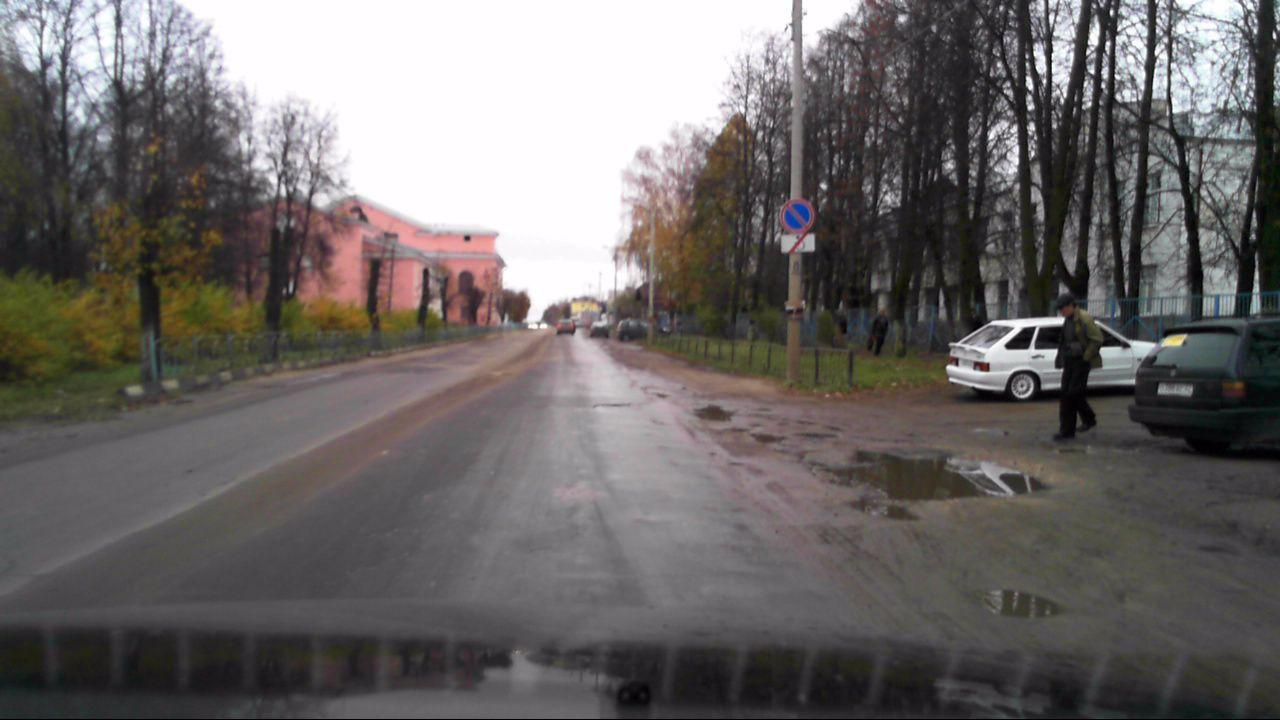6_4: (780, 197, 817, 231)
8_18: (780, 233, 814, 251)
